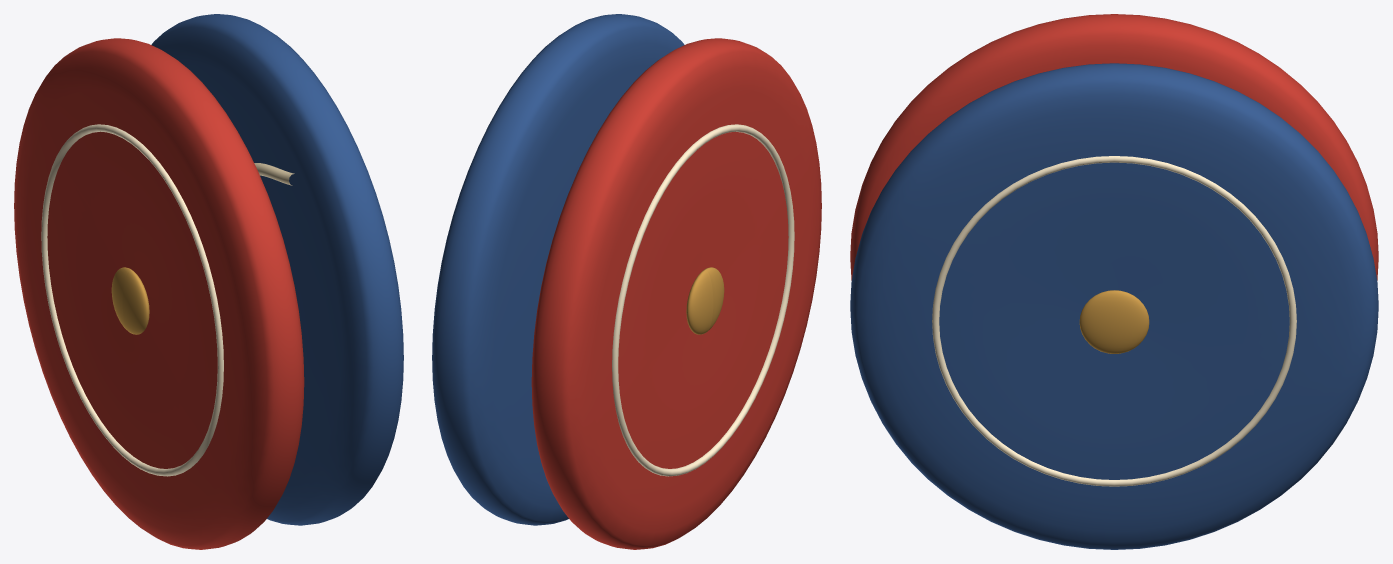
File: yoyo.glb
The picture shows the model from 3 angles, left to right: view 1: azimuth 30°, elevation 25°; view 2: azimuth 150°, elevation 25°; view 3: azimuth 270°, elevation 25°; orthographic projection.
Visible parts, largest first — view 1: red, blue, ivory, brass; view 2: red, blue, ivory, brass; view 3: blue, red, ivory, brass.
Part boxes in pixels (left/top/right/bottom): red: left=14, top=38, right=304, bottom=549; blue: left=151, top=14, right=403, bottom=525; ivory: left=41, top=124, right=223, bottom=476; brass: left=111, top=267, right=149, bottom=334; red: left=531, top=38, right=821, bottom=549; blue: left=432, top=14, right=684, bottom=525; ivory: left=612, top=124, right=794, bottom=476; brass: left=686, top=267, right=724, bottom=334; blue: left=850, top=63, right=1378, bottom=549; red: left=850, top=14, right=1378, bottom=280; ivory: left=932, top=156, right=1296, bottom=486; brass: left=1079, top=290, right=1149, bottom=353.
Bounding box in the file's own units: 0.264 × 0.68 × 0.68.
